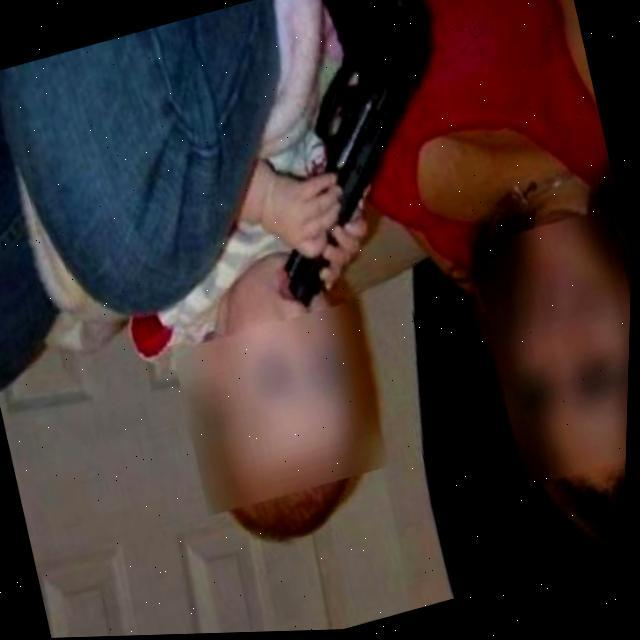gun: (216, 0, 496, 317)
